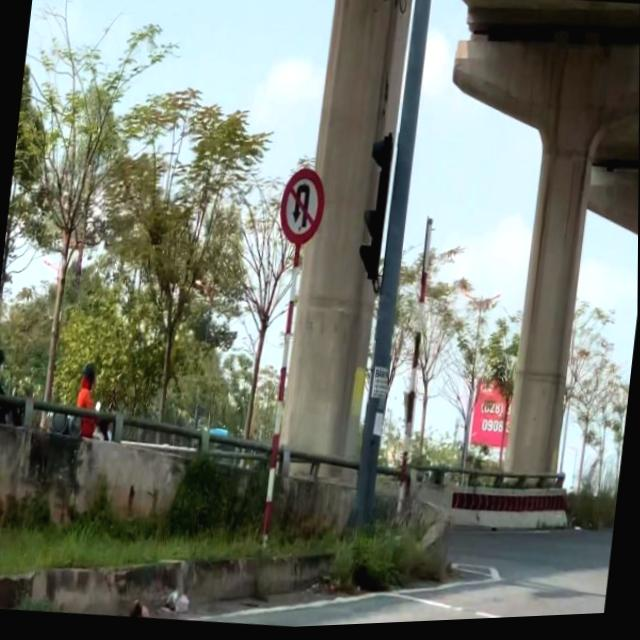Cam quay dau xe: (275, 165, 329, 252)
